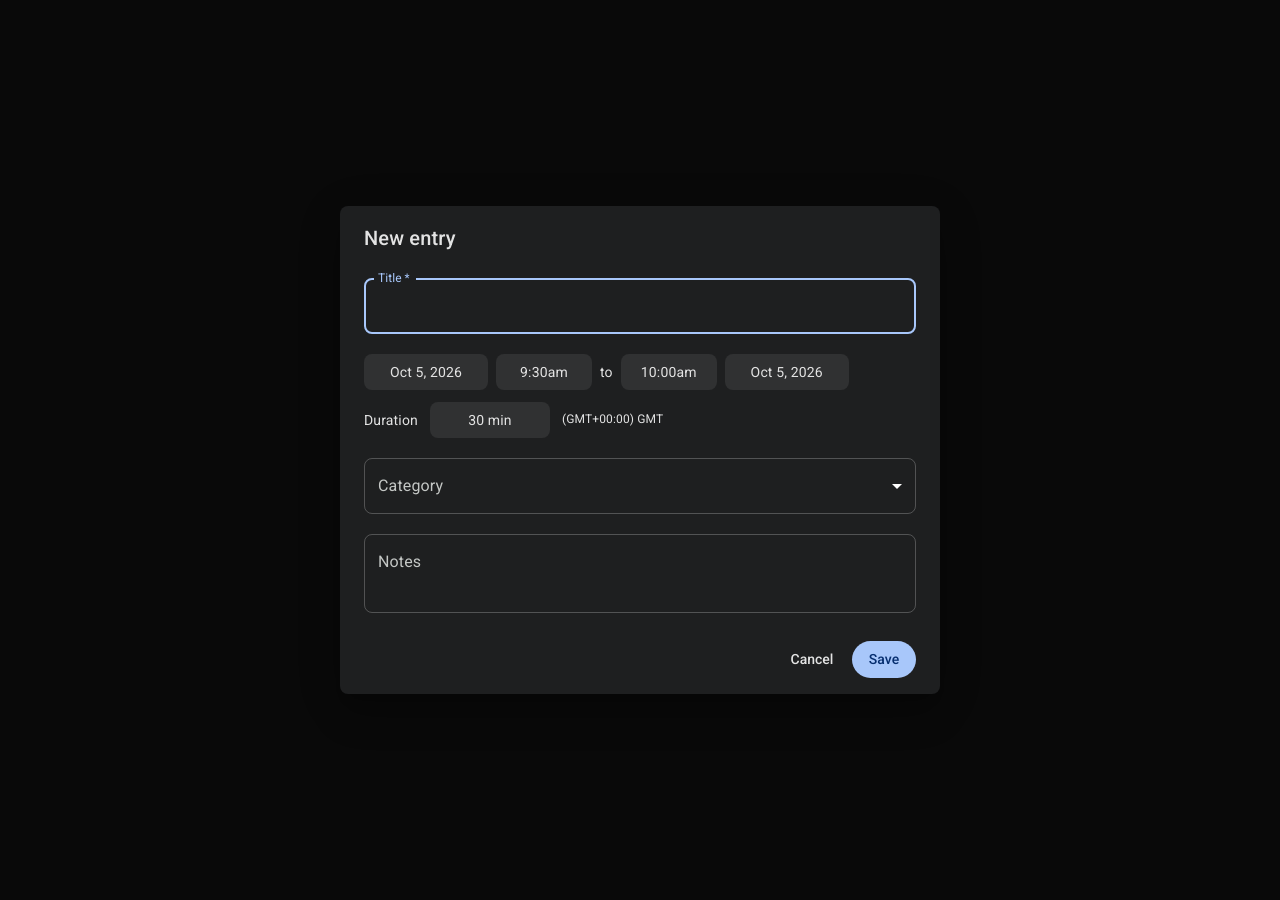
Test case: EntryDialog › infers pm for a start time typed in the afternoon (DT-6)
Replace the text in the dropdown named "Start time" with "9:30". click: (544, 372)
box: [496,354,592,390]
Then press Enter
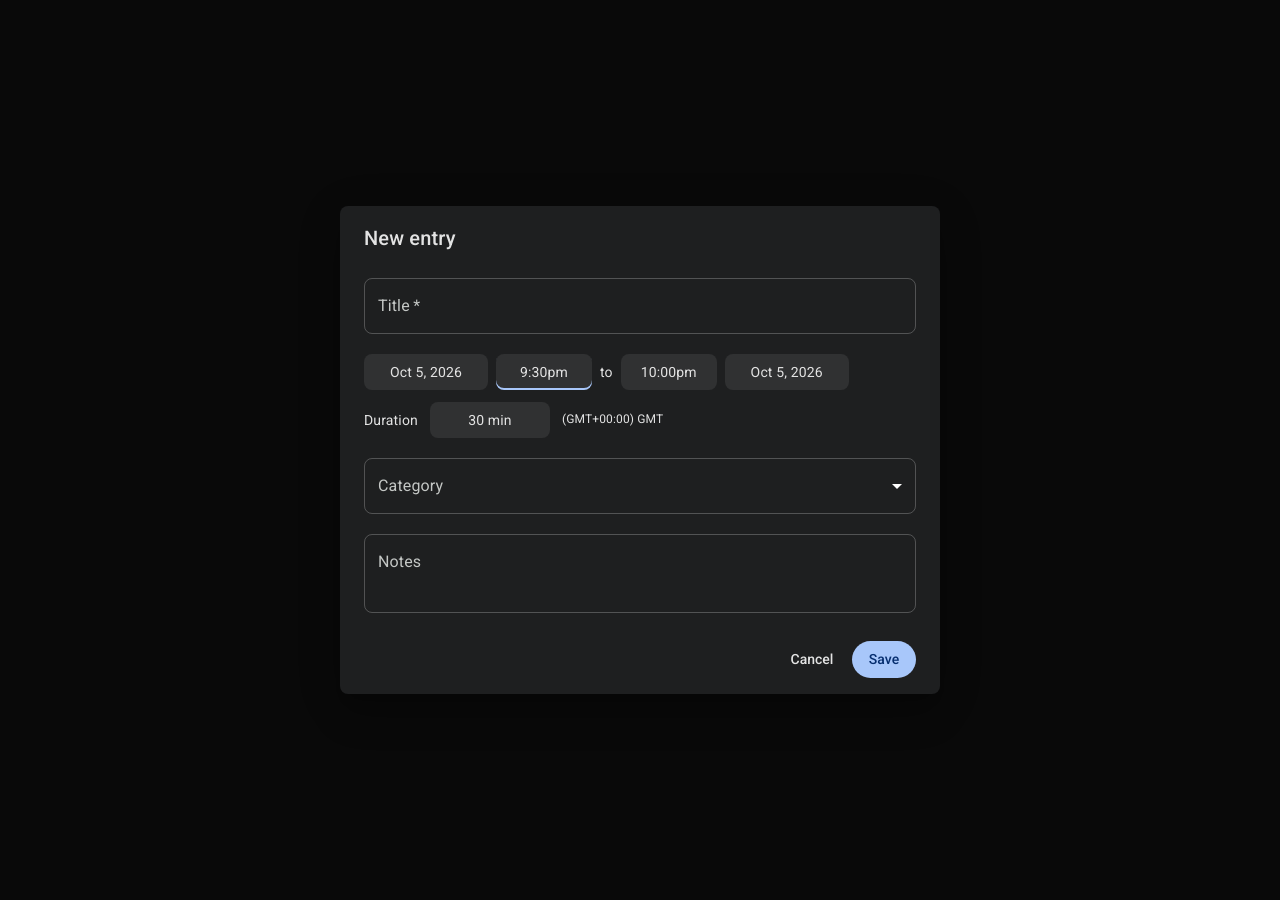
Result: the dropdown named "Start time" holds "9:30pm" at [496,354,592,390]
